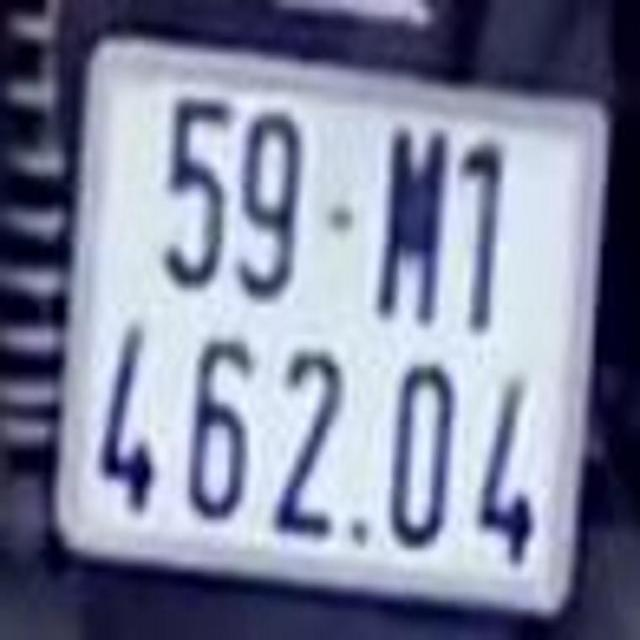0: (386, 348, 451, 548)
1: (459, 136, 509, 327)
2: (274, 350, 334, 535)
4: (96, 327, 162, 515), (482, 370, 539, 573)
5: (163, 99, 225, 284)
6: (189, 339, 251, 528)
9: (235, 108, 298, 295)
M: (379, 128, 449, 330)
